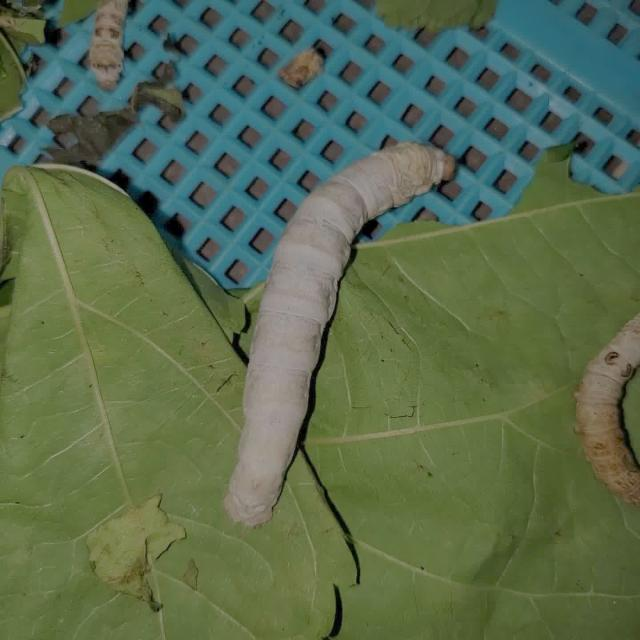Grasserie: (212, 107, 489, 549)
